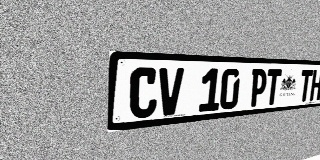0: (219, 68, 241, 110)
1: (199, 68, 222, 112)
C: (129, 67, 158, 119)
H: (309, 70, 320, 101)
P: (249, 69, 268, 107)
T: (264, 69, 282, 105), (298, 70, 313, 102)
V: (157, 68, 184, 116)
